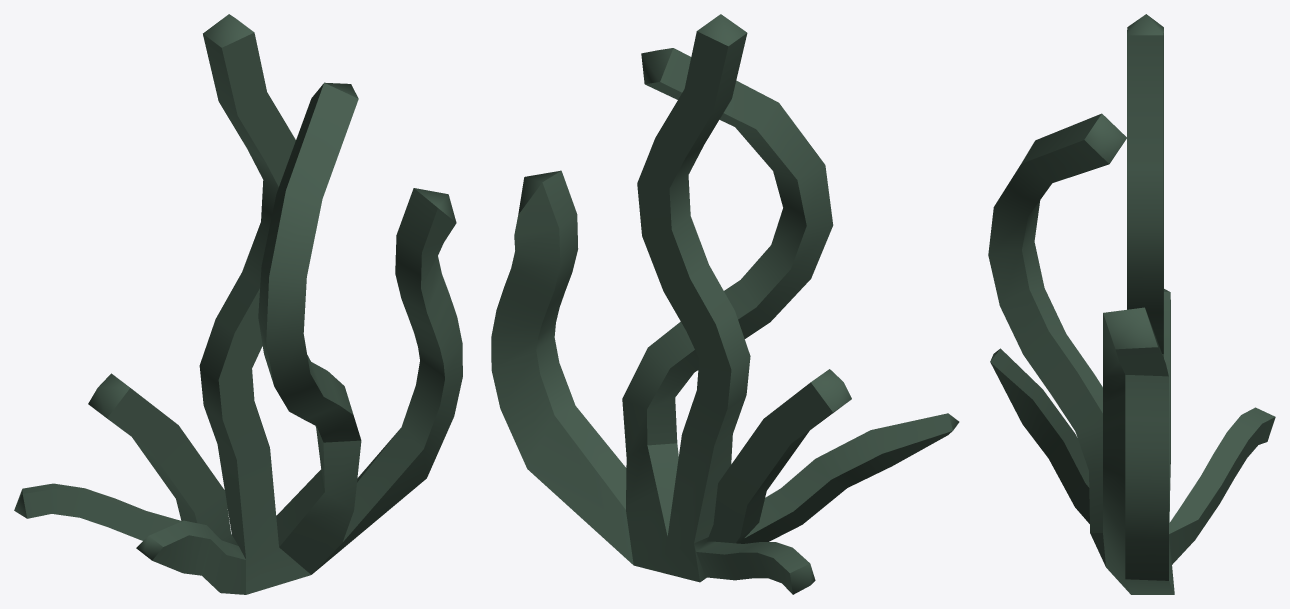
Rendered from coral_model_2.fbx.
3 views of the same model, side by side, from view 1: azimuth 30°, elevation 25°; view 2: azimuth 150°, elevation 25°; view 3: azimuth 270°, elevation 25° (orthographic). The views are drawn at different scales.
Visible parts, largest first — view 1: pCube2; view 2: pCube2; view 3: pCube2.
Boxes of the visible parts, <box> form: pCube2: <box>14,14,462,594</box>; pCube2: <box>491,14,959,594</box>; pCube2: <box>988,14,1275,594</box>.
Bounding box in the file's own units: 11.65 × 16.5 × 7.82.
